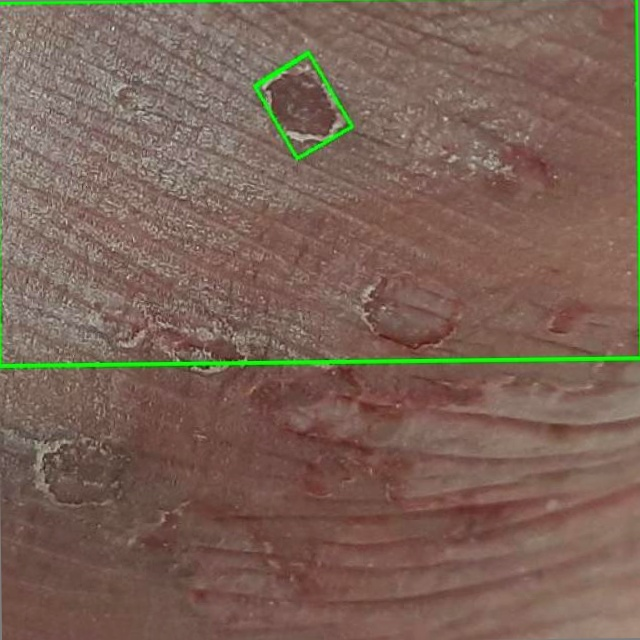Contact Dermatitis: (0, 0, 639, 367), (253, 53, 352, 159)
